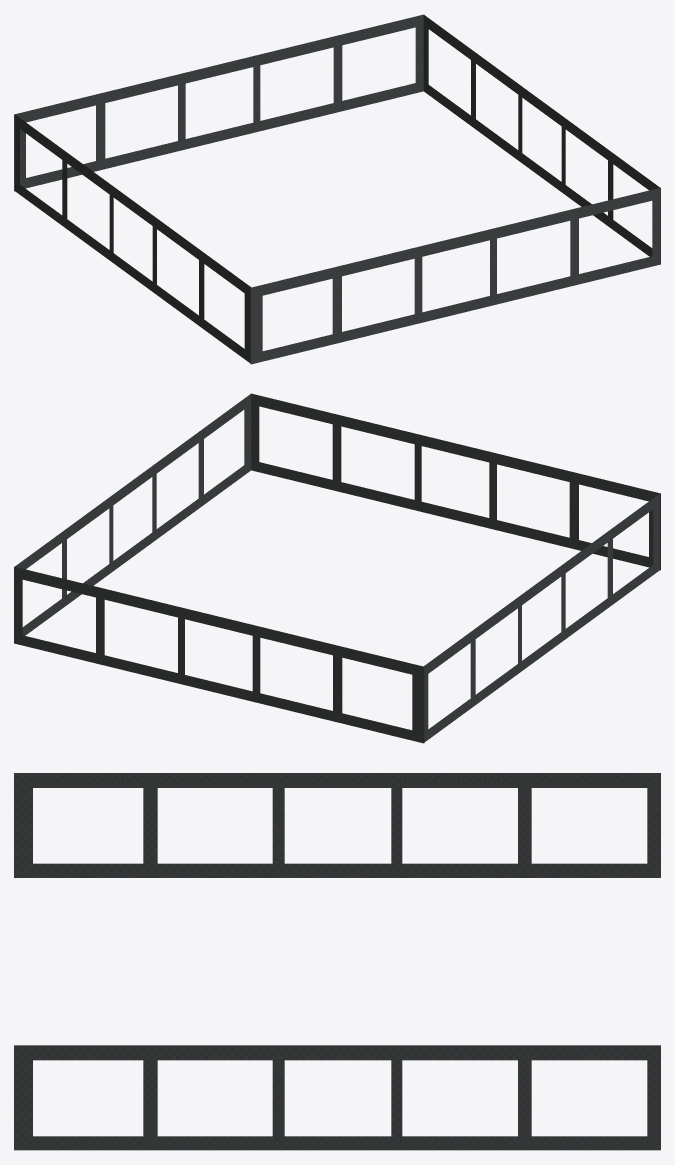
File: labWall.fbx
The picture shows the model from 3 angles, top to bottom: view 1: azimuth 30°, elevation 25°; view 2: azimuth 150°, elevation 25°; view 3: azimuth 270°, elevation 25°; orthographic projection. The views are drawn at different scales.
Visible parts, largest first — view 1: Zdi; view 2: Zdi; view 3: Zdi.
Part boxes in pixels (x1,y1,x2,y2): Zdi: (14, 14, 660, 364); Zdi: (14, 393, 660, 743); Zdi: (14, 773, 660, 1150).
Bounding box in the file's own units: 7959 × 1425 × 7959.
